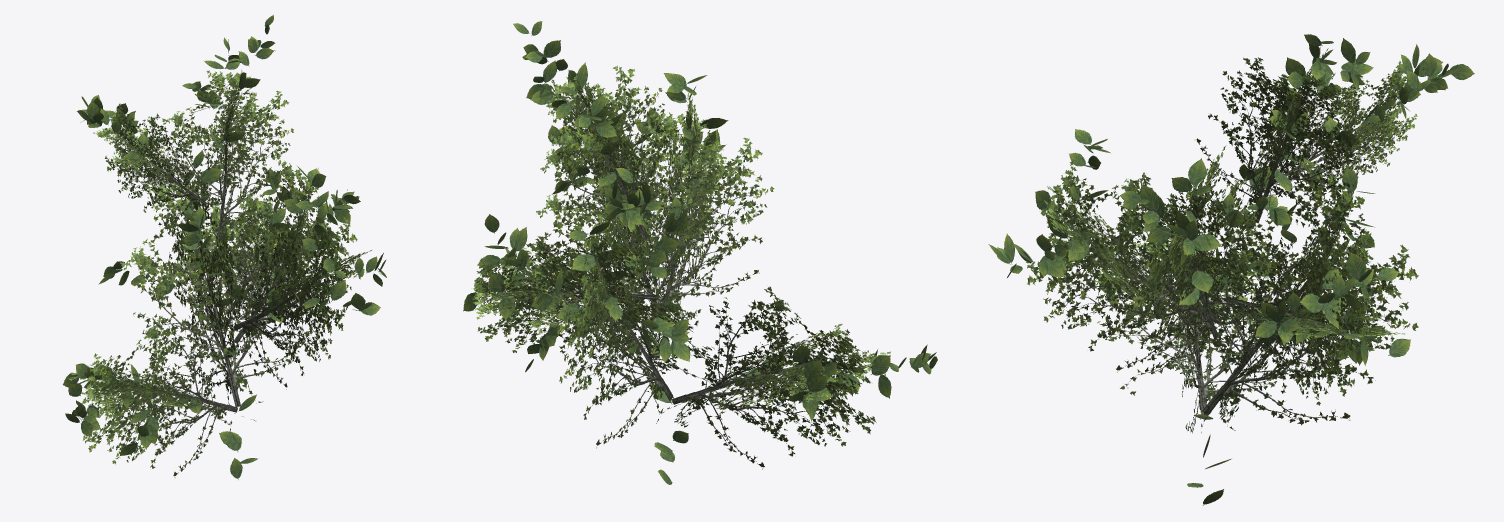
File: TRANS_UDC_ParkTreeB.obj
3 views of the same model, side by side, from view 1: azimuth 30°, elevation 25°; view 2: azimuth 150°, elevation 25°; view 3: azimuth 270°, elevation 25° (orthographic). The views are drawn at different scales.
Parts seen in each view (by area): view 1: TRANS_UDC_ParkTreeB; view 2: TRANS_UDC_ParkTreeB; view 3: TRANS_UDC_ParkTreeB.
Boxes of the visible parts, <box> form: TRANS_UDC_ParkTreeB: <box>63,15,386,479</box>; TRANS_UDC_ParkTreeB: <box>463,21,937,484</box>; TRANS_UDC_ParkTreeB: <box>988,34,1474,505</box>.
Bounding box in the file's own units: 0.1656 × 0.1877 × 0.1629.
